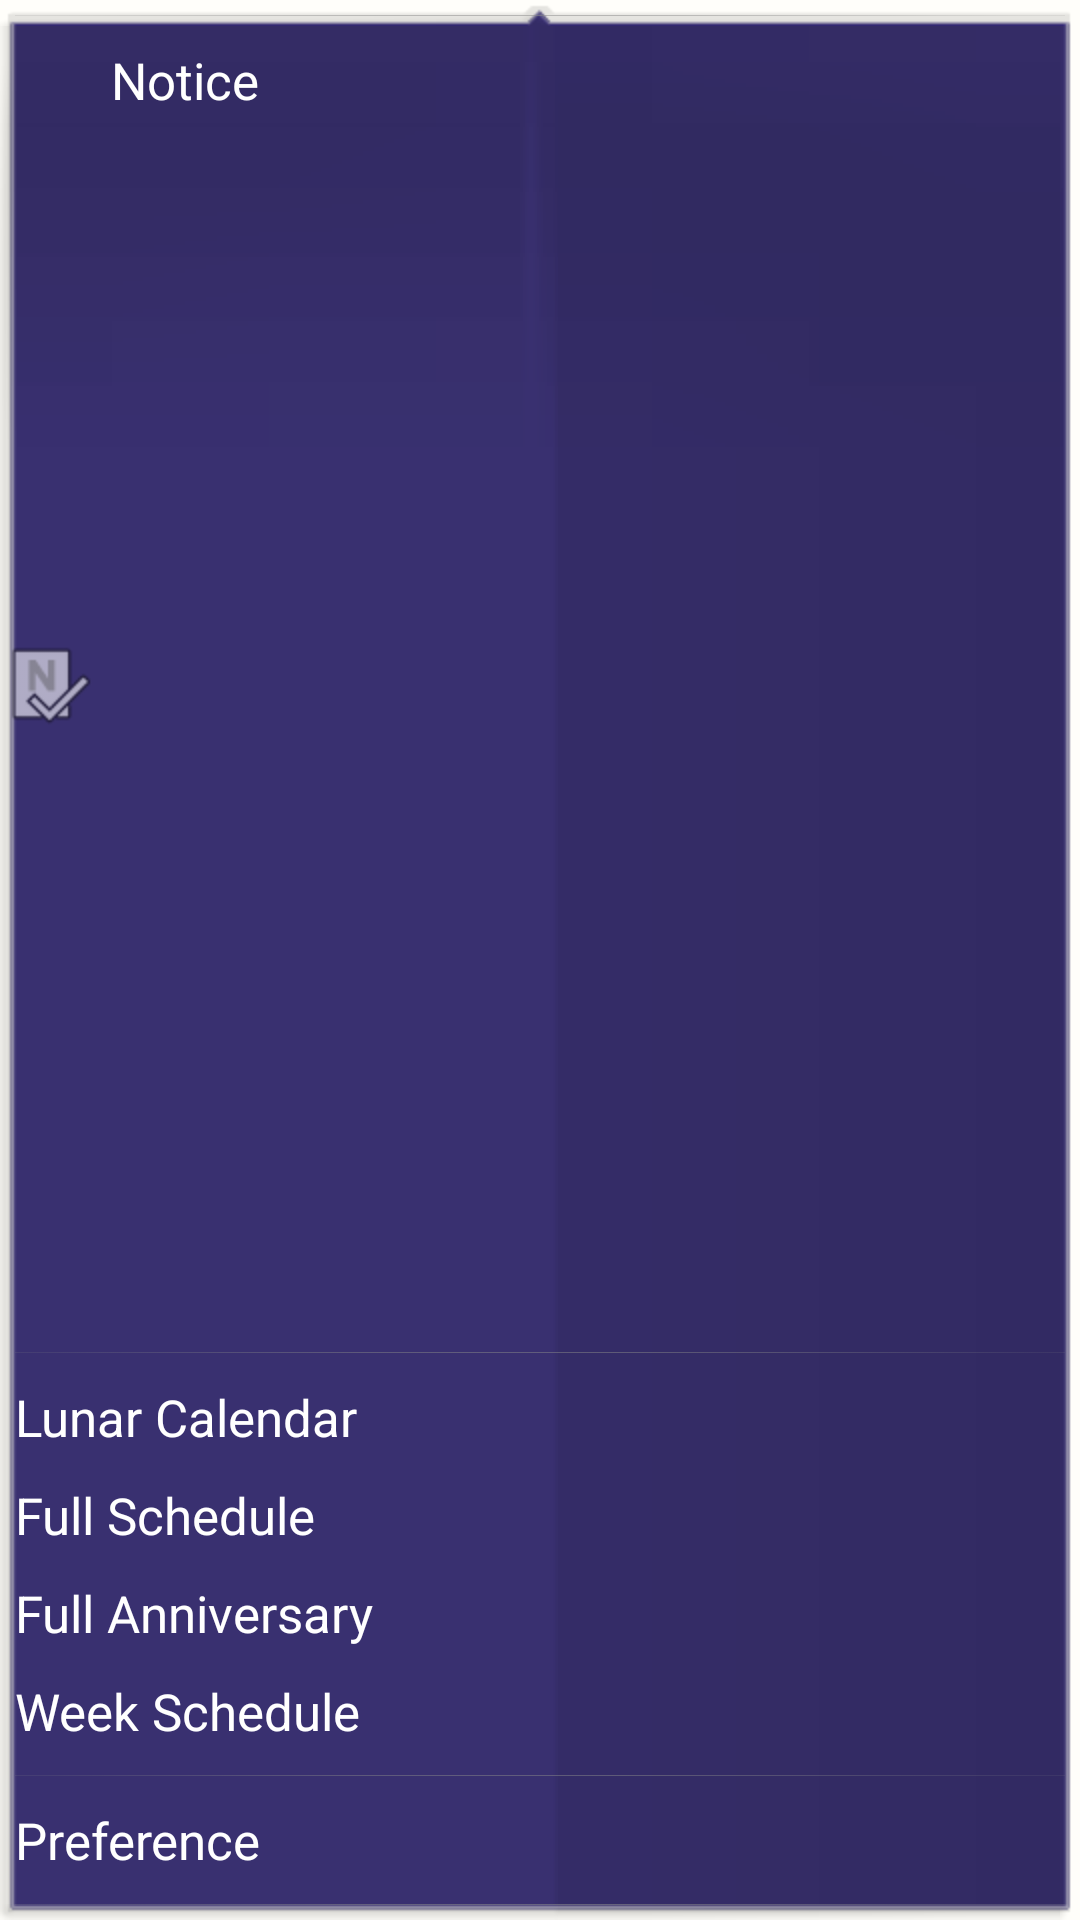

Where icons sit on this 1080px x 1920px app screen, as bbox=(x1, y1, x2, y2):
notice: bbox=(0, 636, 90, 732)
